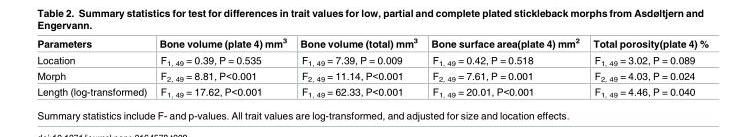table: (36, 37, 707, 97)
table column: (423, 37, 585, 97), (152, 37, 292, 97), (292, 37, 423, 97), (585, 37, 707, 97), (36, 37, 152, 97)
table column header: (36, 37, 707, 52)
table row: (36, 52, 707, 68), (36, 37, 707, 52), (36, 68, 707, 83), (36, 83, 707, 97)
